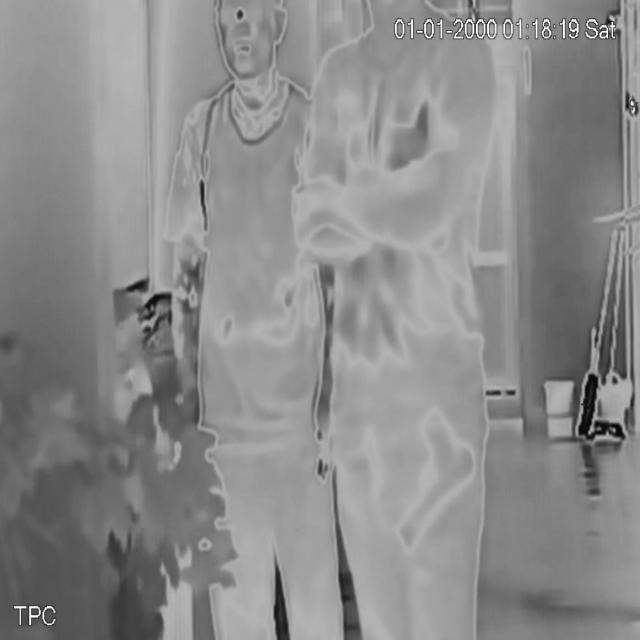Weapon: (392, 384, 483, 576)
